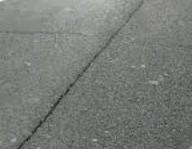crack: (16, 0, 152, 147), (0, 27, 88, 38)
